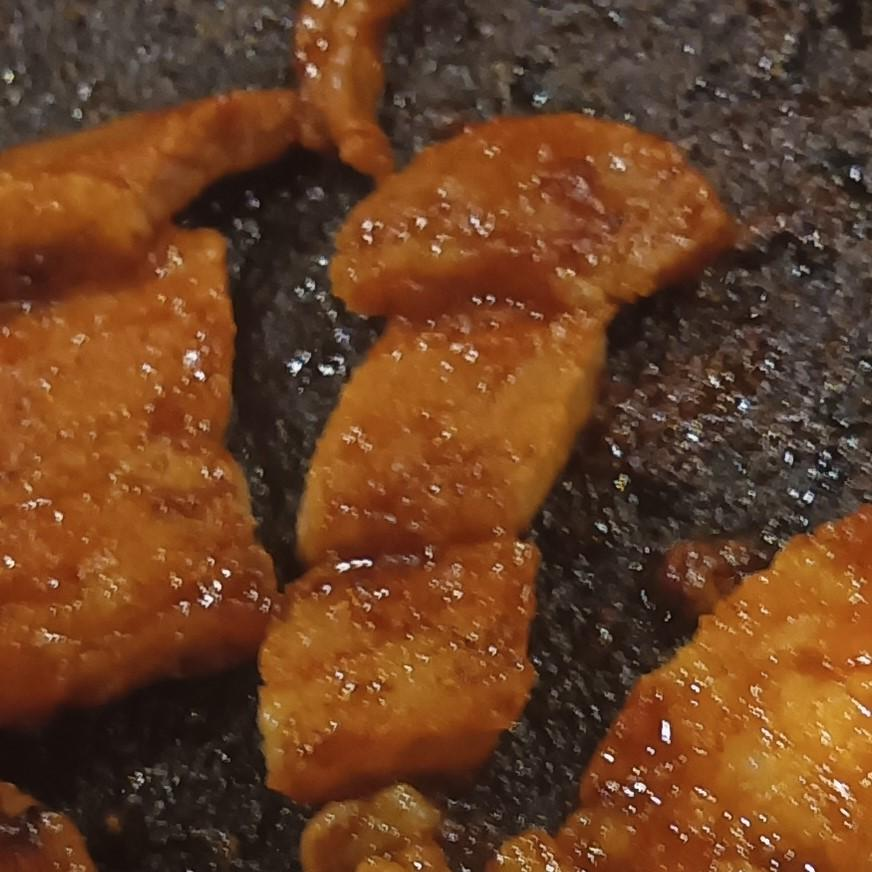Well-Cooked: (0, 0, 740, 871), (488, 501, 871, 871)
